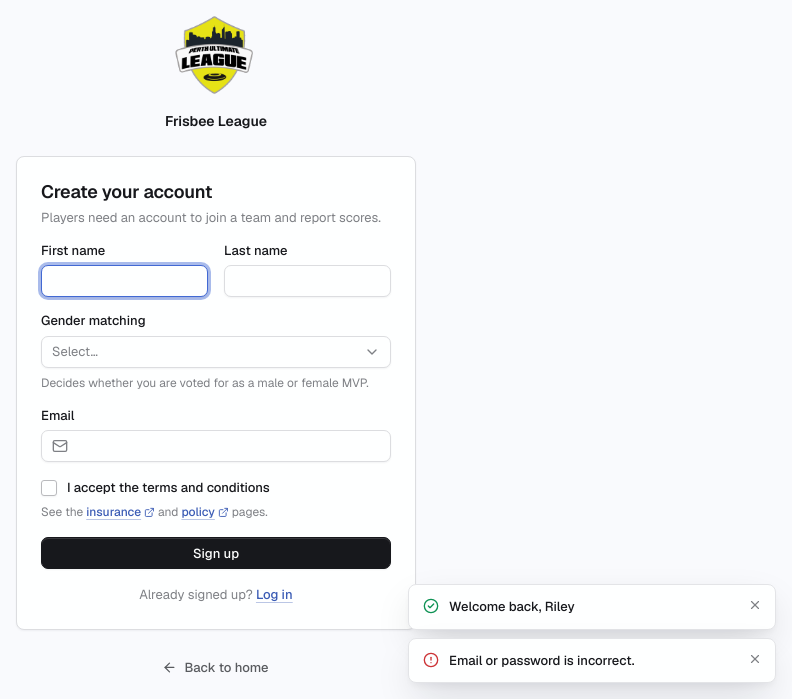
Test case: AuthScreen sign up step › blocks submit when {"email":"nope"}
In the field labelled "First name": (124, 281) top-left (52, 266), bottom-right (197, 296), type "Jo"
In the field labelled "Last name": (308, 281) top-left (235, 266), bottom-right (380, 296), type "Bloggs"
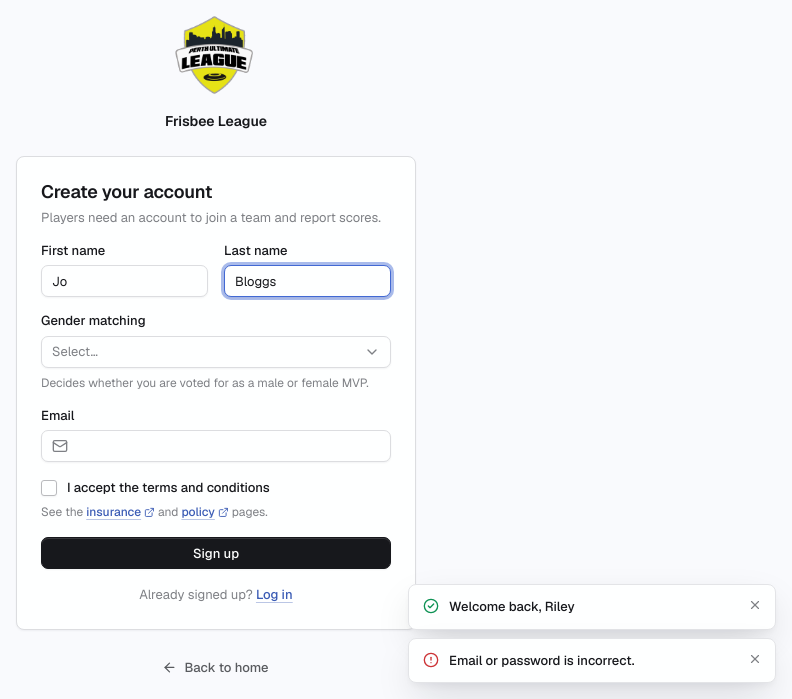
Click the dropdown named "Gender matching": (75, 351) top-left (41, 336), bottom-right (391, 368)
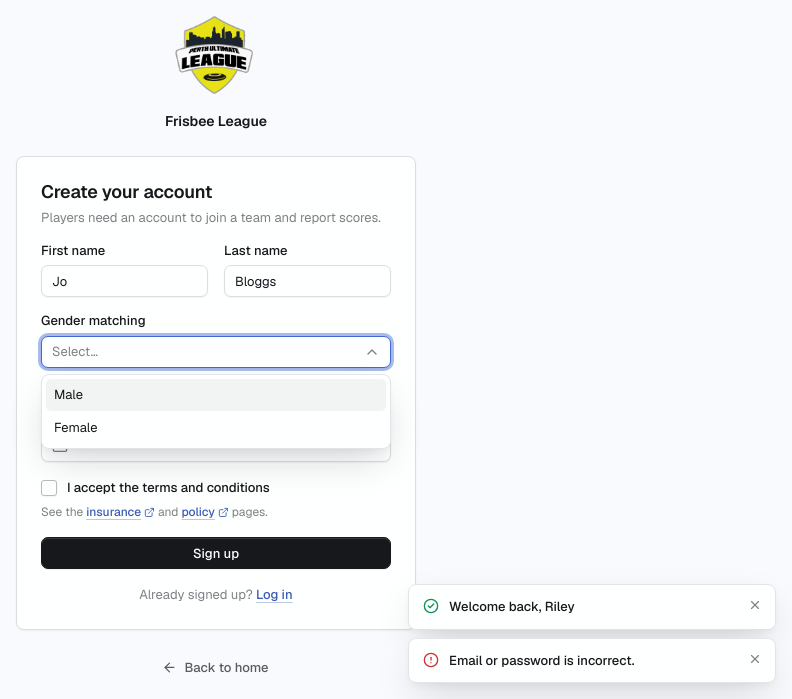
Click the option "Female": (76, 428) top-left (54, 419), bottom-right (97, 436)
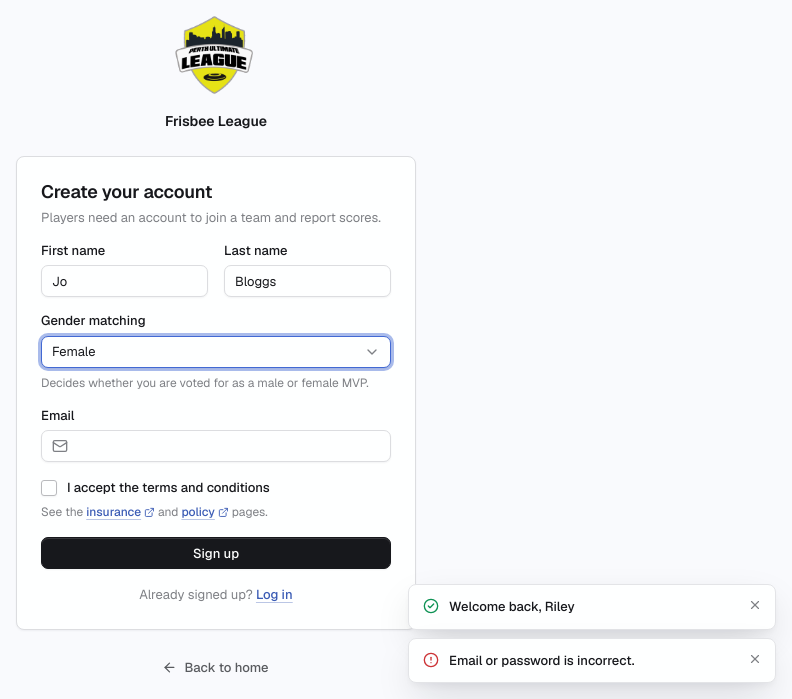
In the field labelled "Email": (228, 446) top-left (76, 431), bottom-right (380, 461), type "nope"
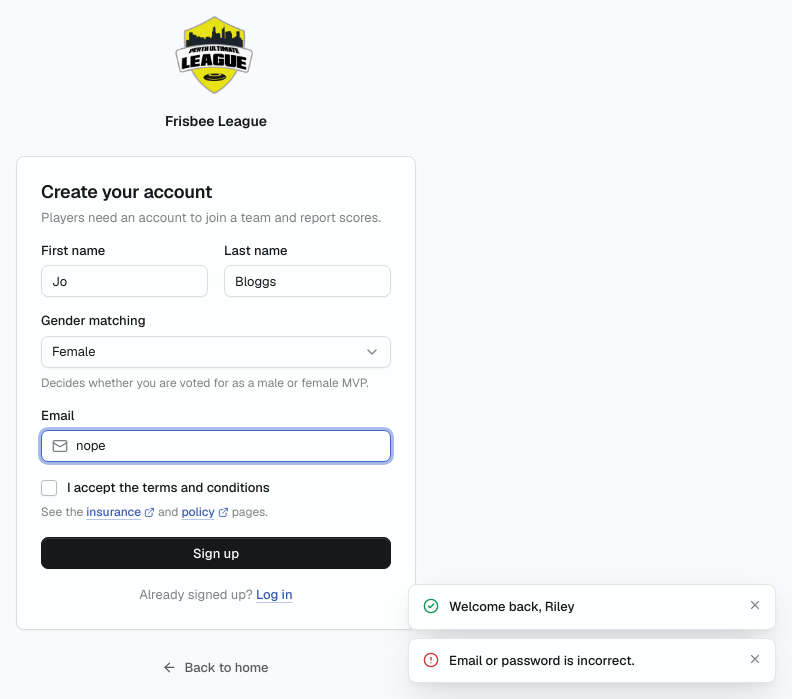
Click the checkbox named "I accept the terms and conditions": (49, 488) top-left (41, 480), bottom-right (57, 496)
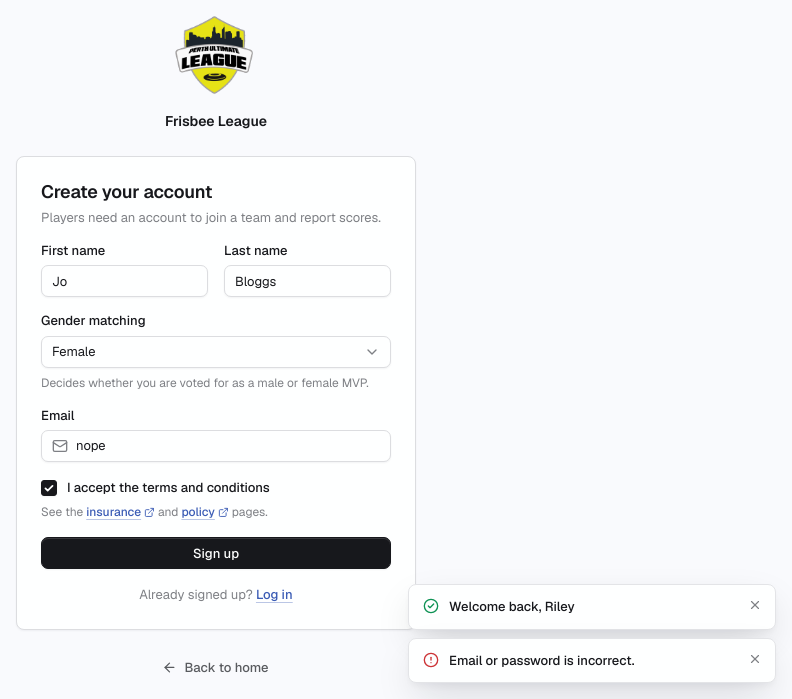
Click the button "Sign up": (216, 553) top-left (41, 537), bottom-right (391, 569)
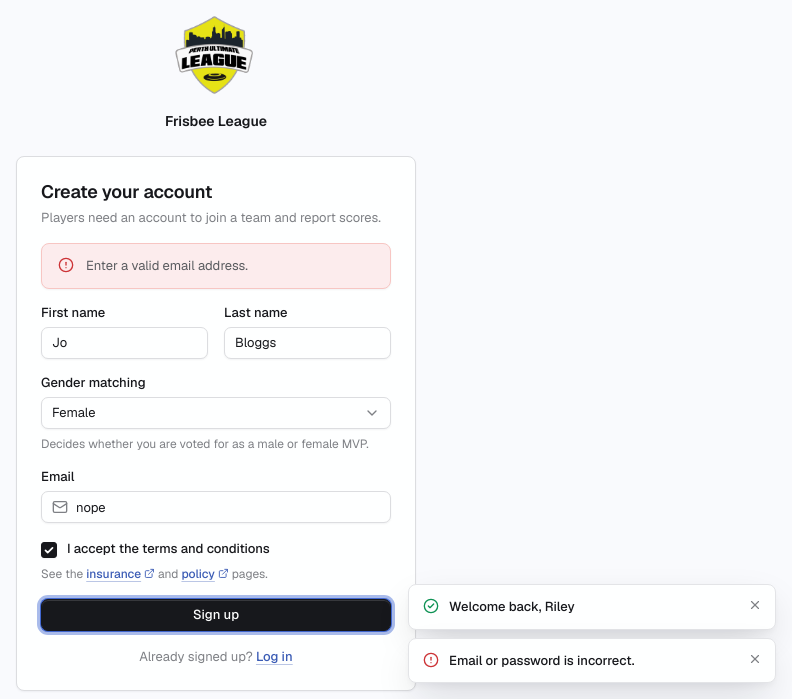
Check: the text "Enter a valid email address." is shown, box top-left (86, 257), bottom-right (248, 274)
